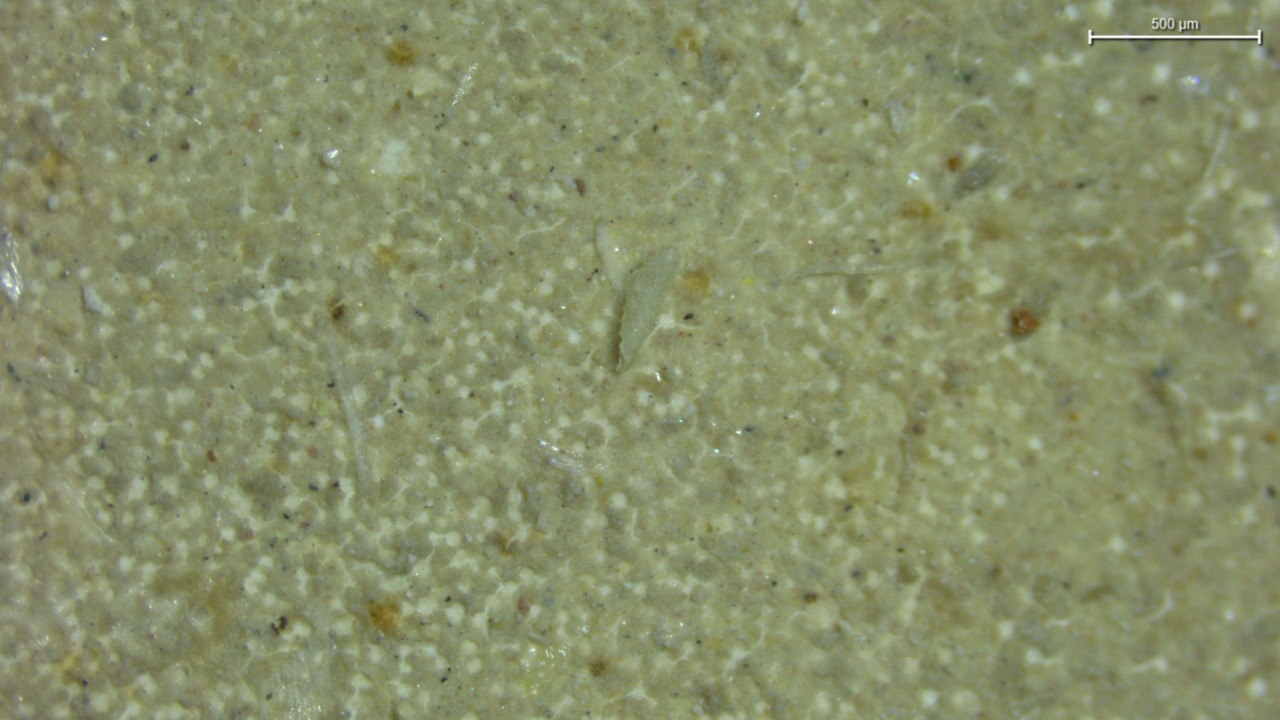microplastic_fragment: (618, 247, 679, 370)
